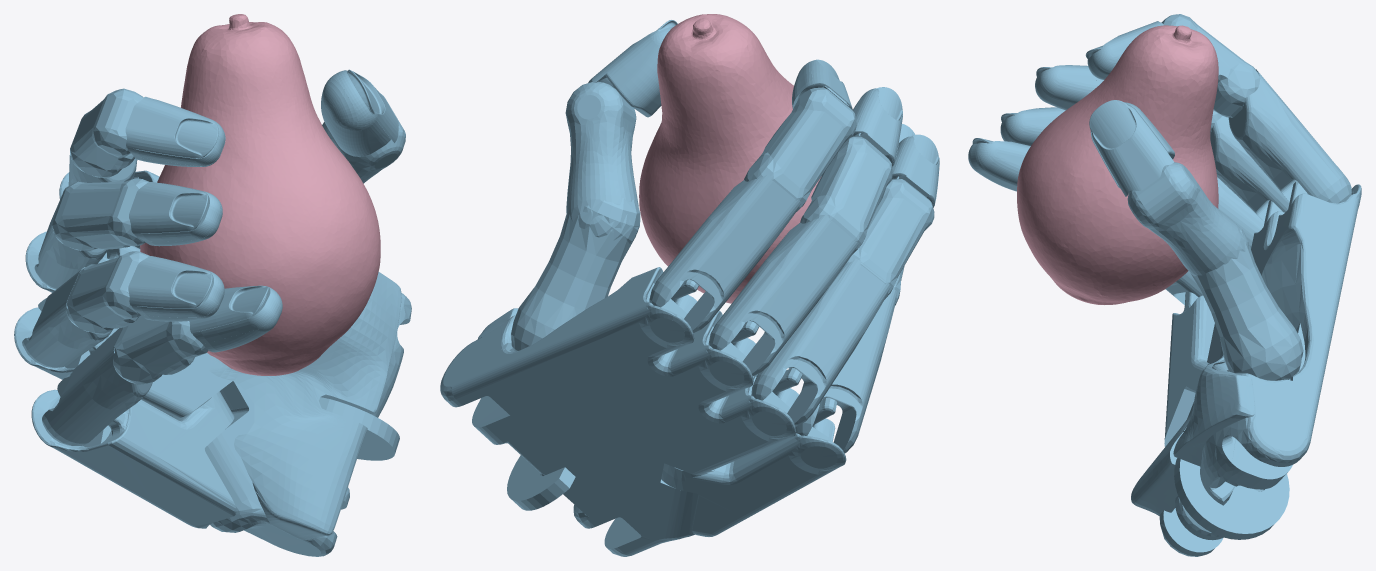
3 views of the same model, side by side, from view 1: azimuth 30°, elevation 25°; view 2: azimuth 150°, elevation 25°; view 3: azimuth 270°, elevation 25° (orthographic). The views are drawn at different scales.
Parts seen in each view (by area): view 1: world; view 2: world; view 3: world.
Boxes of the visible parts, x1=… form: world: x1=14, y1=14, x2=411, y2=556; world: x1=440, y1=14, x2=939, y2=556; world: x1=968, y1=14, x2=1361, y2=556.
Size of the model in its own units: 0.1323 by 0.1781 by 0.1282.
